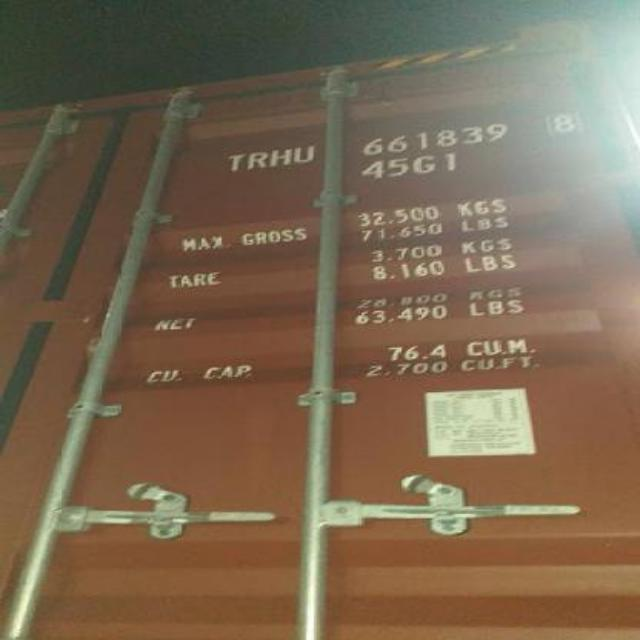1: (412, 130, 434, 152)
3: (461, 120, 482, 148)
6: (358, 130, 386, 160), (386, 128, 410, 156)
8: (548, 104, 578, 134), (432, 124, 460, 150)
9: (482, 117, 516, 147)
H: (266, 144, 290, 170)
R: (244, 148, 264, 174)
T: (218, 147, 248, 176)
U: (292, 142, 316, 170)
